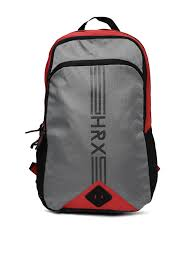backpack: (25, 16, 160, 214)
